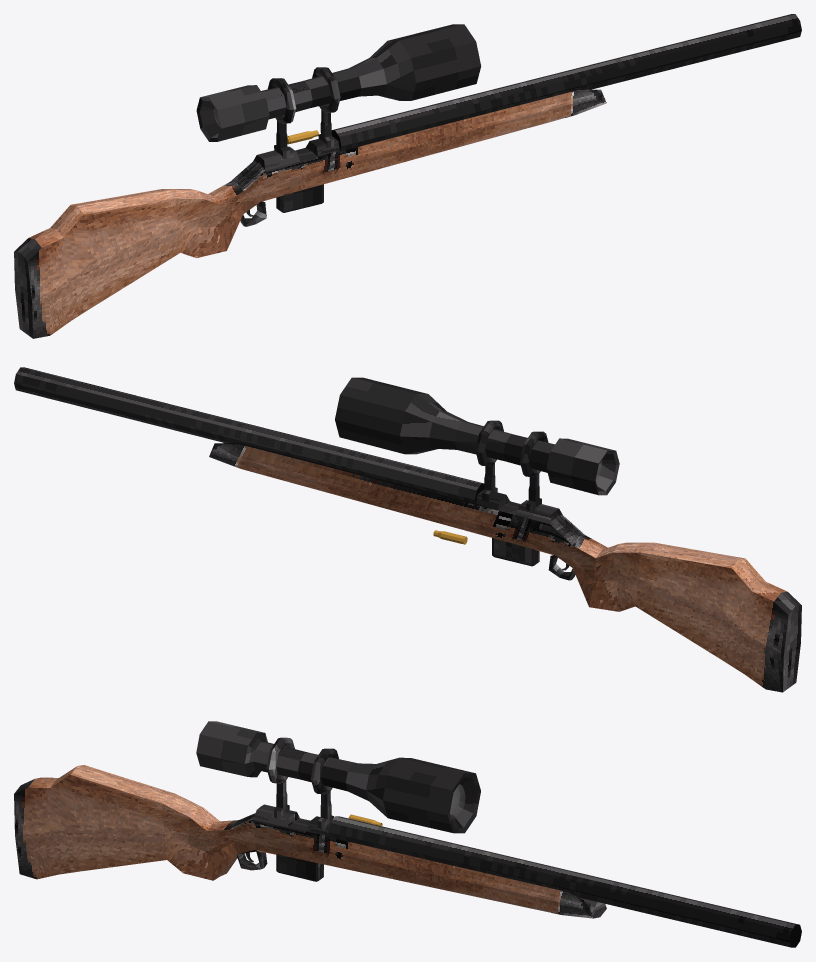
The model's file is Rifle.glb.
3 views of the same model, one above another, from view 1: azimuth 30°, elevation 25°; view 2: azimuth 150°, elevation 25°; view 3: azimuth 330°, elevation 25° (orthographic).
Parts seen in each view (by area): view 1: Rifle, Magazine; view 2: Rifle, Magazine; view 3: Rifle, Magazine.
Boxes of the visible parts, <box> form: Rifle: <box>14,14,801,338</box>; Magazine: <box>276,184,323,212</box>; Rifle: <box>14,367,801,692</box>; Magazine: <box>492,538,539,566</box>; Rifle: <box>14,721,801,947</box>; Magazine: <box>276,854,323,881</box>.
Size of the model in its own units: 4.54 by 1.14 by 0.5153.
3 materials, 1 textured.
